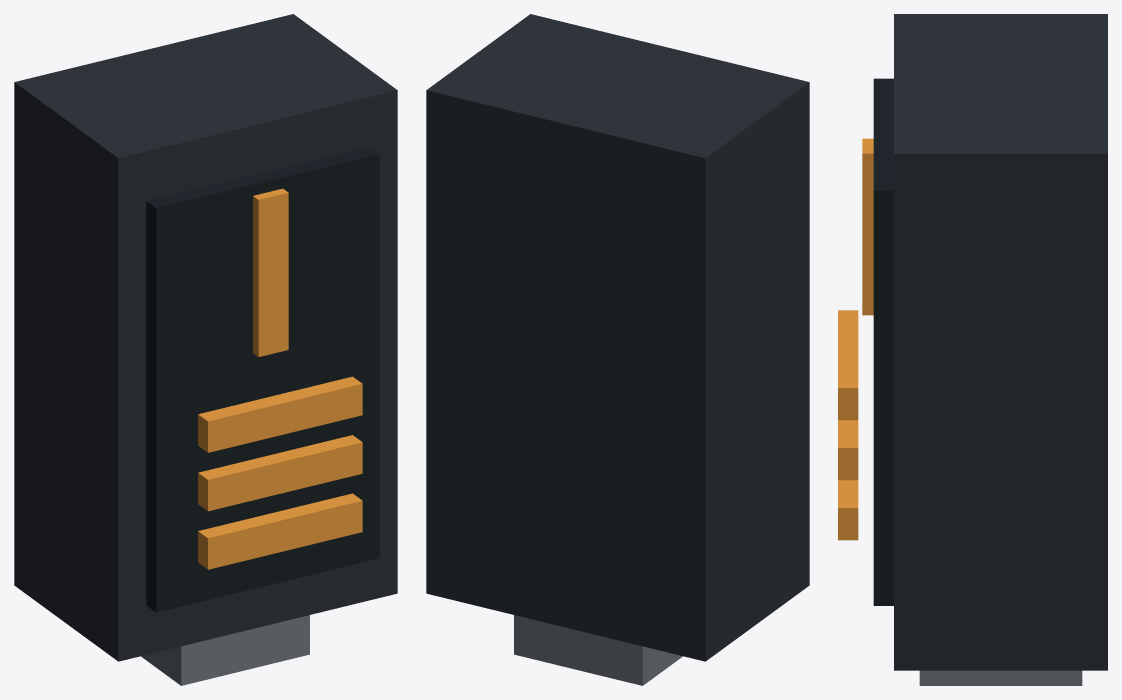
File: cargo_module.glb
3 views of the same model, side by side, from view 1: azimuth 30°, elevation 25°; view 2: azimuth 150°, elevation 25°; view 3: azimuth 270°, elevation 25° (orthographic). The views are drawn at different scales.
Visible parts, largest first — view 1: Cartridge, CartridgeFace, BayGlyph, BayGlyph.001, BayGlyph.002, LockTab, CapacityStripe; view 2: Cartridge, LockTab; view 3: Cartridge, CartridgeFace, LockTab, BayGlyph, CapacityStripe, BayGlyph.001, BayGlyph.002.
Boxes of the visible parts, x1=… form: Cartridge: x1=14, y1=14, x2=397, y2=661; CartridgeFace: x1=146, y1=146, x2=379, y2=612; BayGlyph: x1=198, y1=376, x2=362, y2=452; BayGlyph.001: x1=198, y1=435, x2=362, y2=511; BayGlyph.002: x1=198, y1=493, x2=362, y2=569; LockTab: x1=141, y1=615, x2=309, y2=685; CapacityStripe: x1=253, y1=188, x2=288, y2=357; Cartridge: x1=426, y1=14, x2=809, y2=661; LockTab: x1=514, y1=615, x2=682, y2=685; Cartridge: x1=894, y1=14, x2=1107, y2=670; CartridgeFace: x1=873, y1=78, x2=893, y2=605; LockTab: x1=919, y1=670, x2=1082, y2=685; BayGlyph: x1=838, y1=310, x2=858, y2=420; CapacityStripe: x1=862, y1=138, x2=873, y2=315; BayGlyph.001: x1=838, y1=420, x2=858, y2=480; BayGlyph.002: x1=838, y1=480, x2=858, y2=540.
Size of the model in its own units: 0.65 by 1.24 by 0.53.
